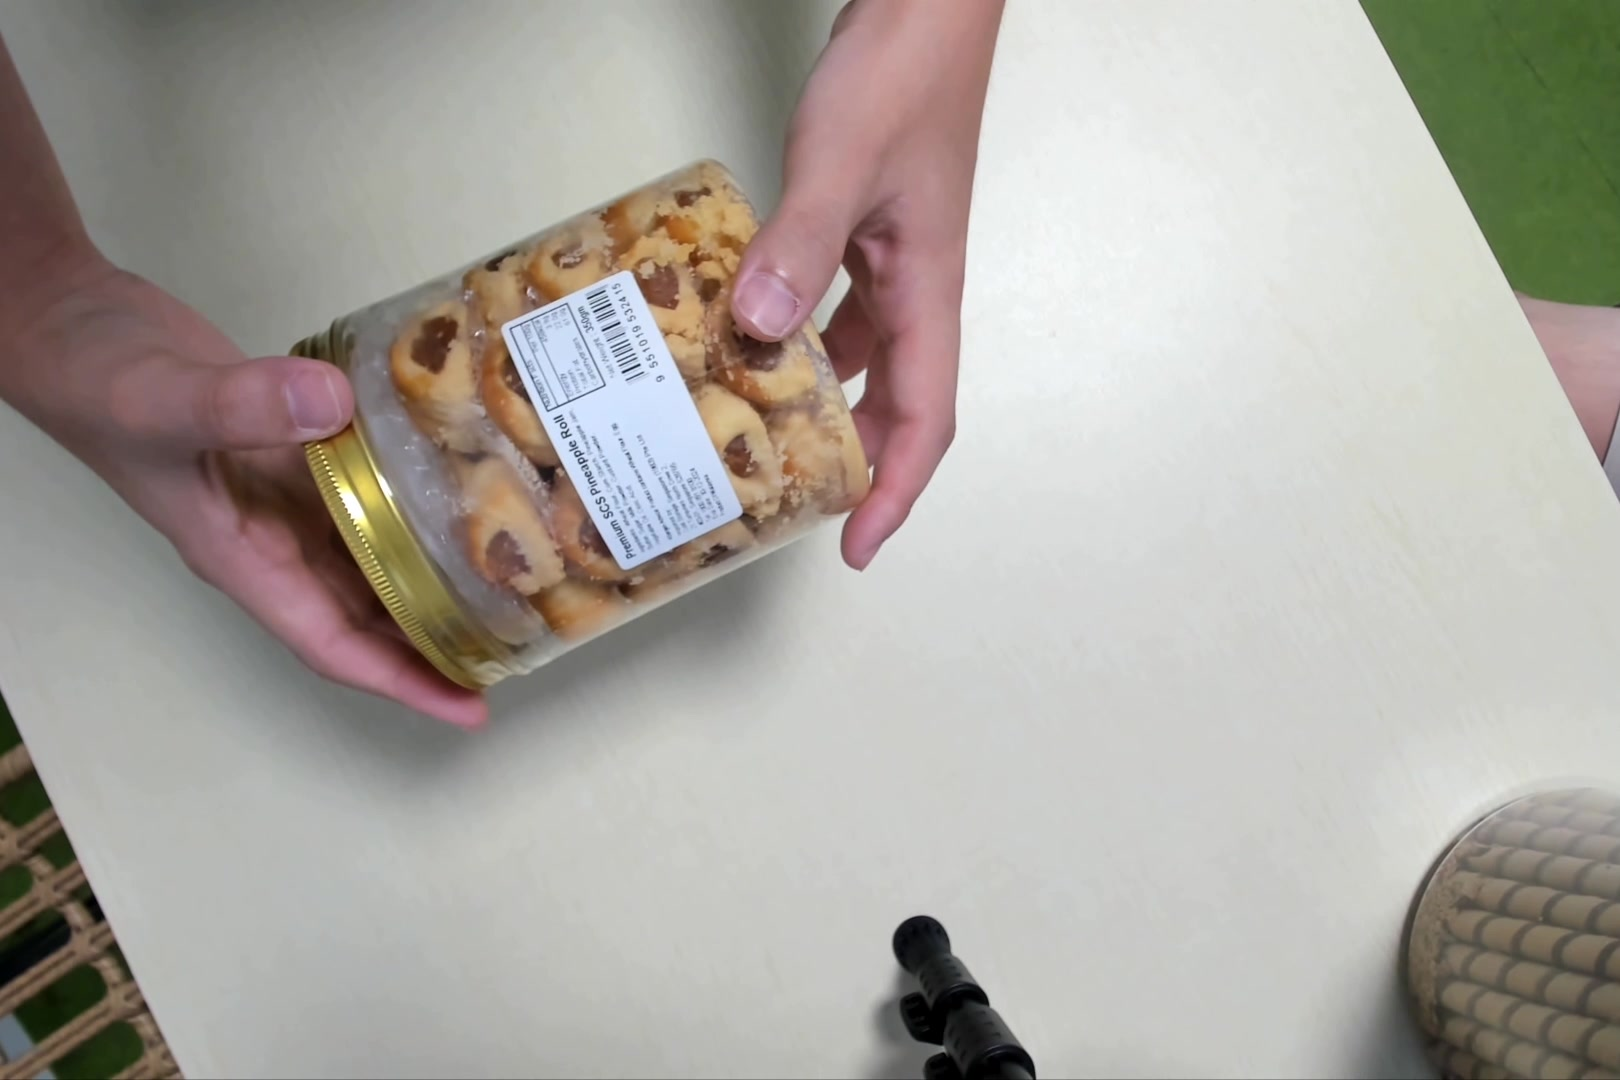BiscuitsCrackersCookies_300-399g_NonHalal_NonHealthy: (278, 152, 868, 708)
